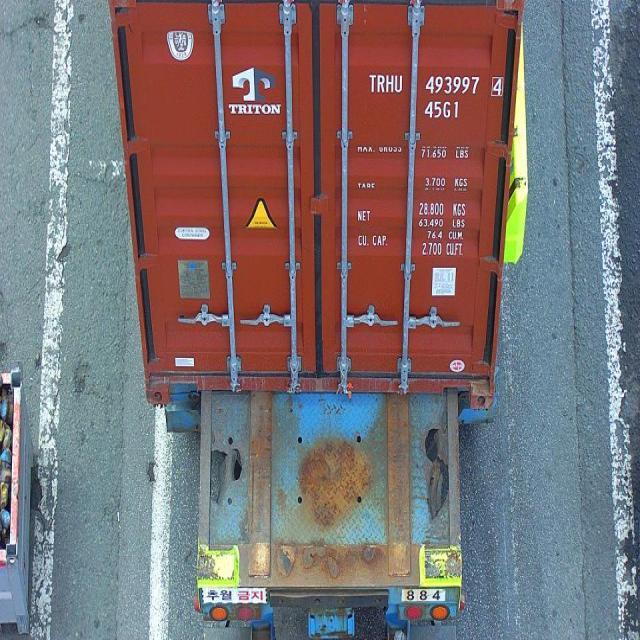ISO: (424, 100, 462, 120)
container_number: (366, 72, 502, 99)
